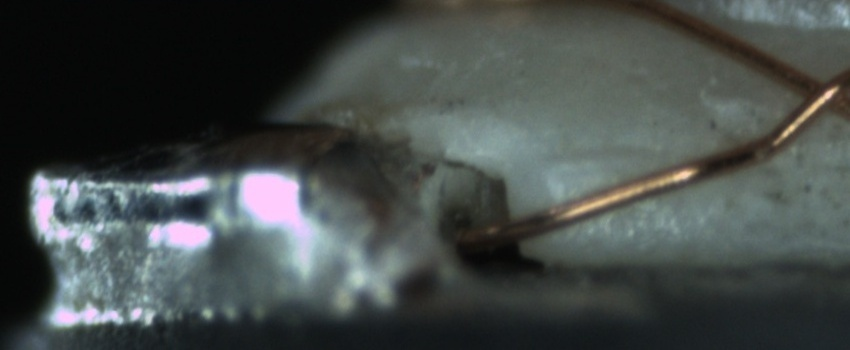CL: (784, 56, 847, 125)
DL: (540, 125, 679, 188)
